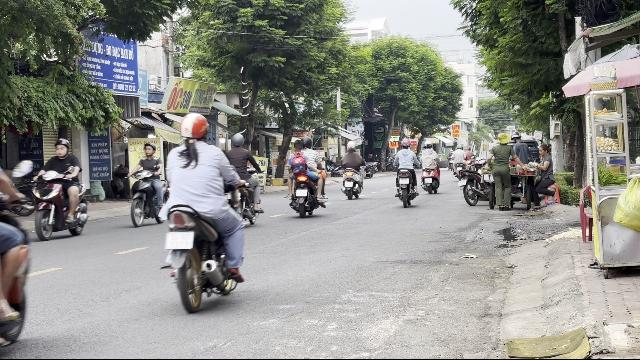helmet: (178, 113, 210, 143), (53, 138, 69, 156), (230, 132, 244, 148), (143, 142, 155, 158), (510, 130, 520, 142)
licenseplate: (166, 231, 194, 249)
motorcyclist: (159, 112, 251, 310), (30, 136, 90, 242), (223, 132, 263, 228), (127, 141, 165, 226)
